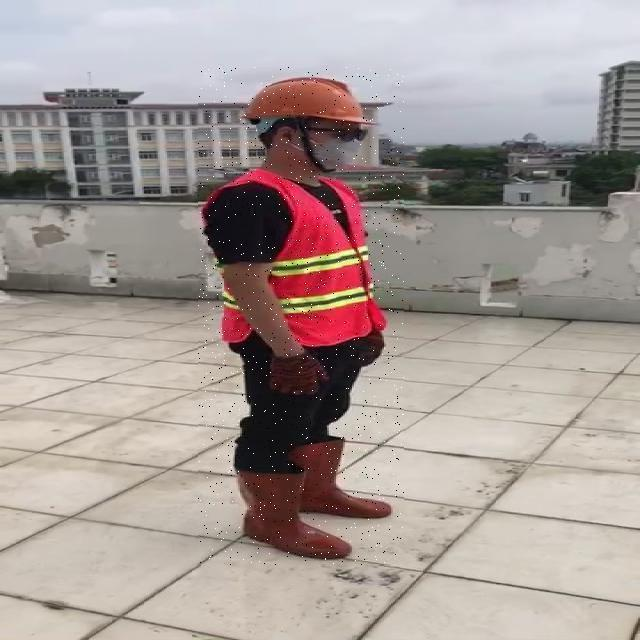helmet: (240, 76, 376, 126)
safety_vest: (210, 172, 384, 347)
